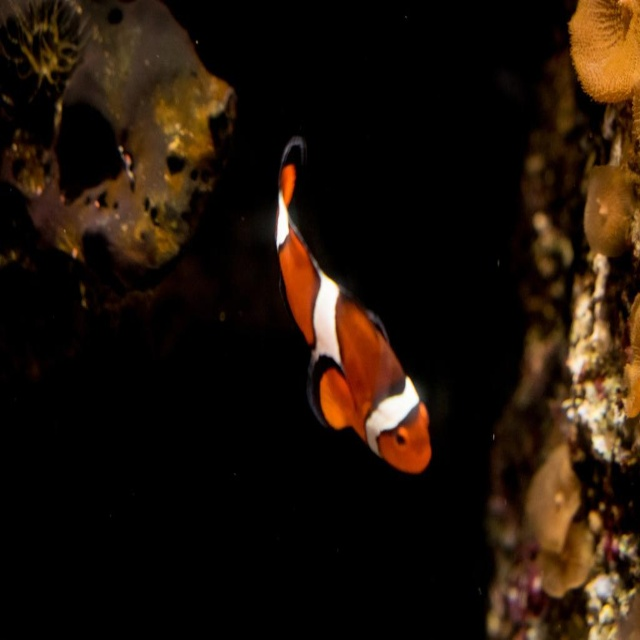Fish: (275, 136, 431, 477)
